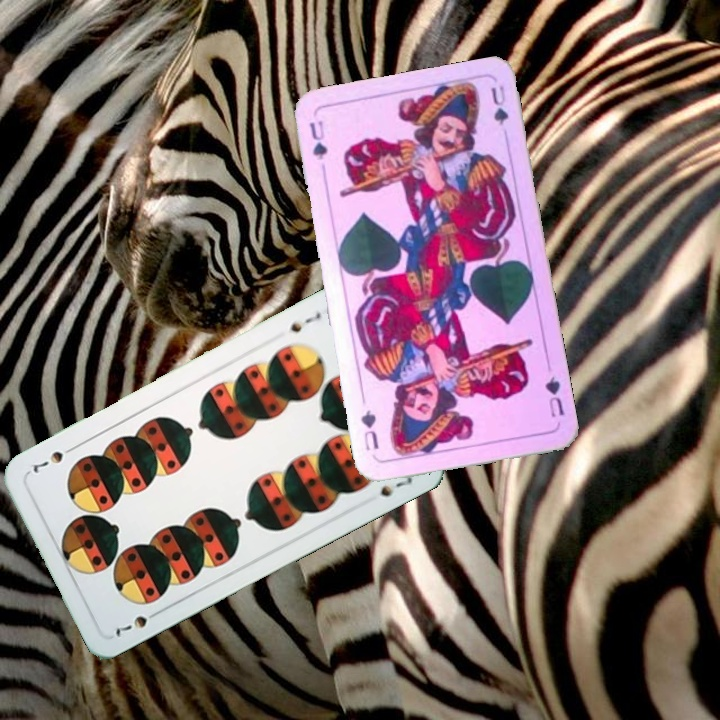GU: (541, 372, 567, 420), (305, 116, 330, 163)
S7: (111, 605, 164, 640), (286, 308, 323, 336)
